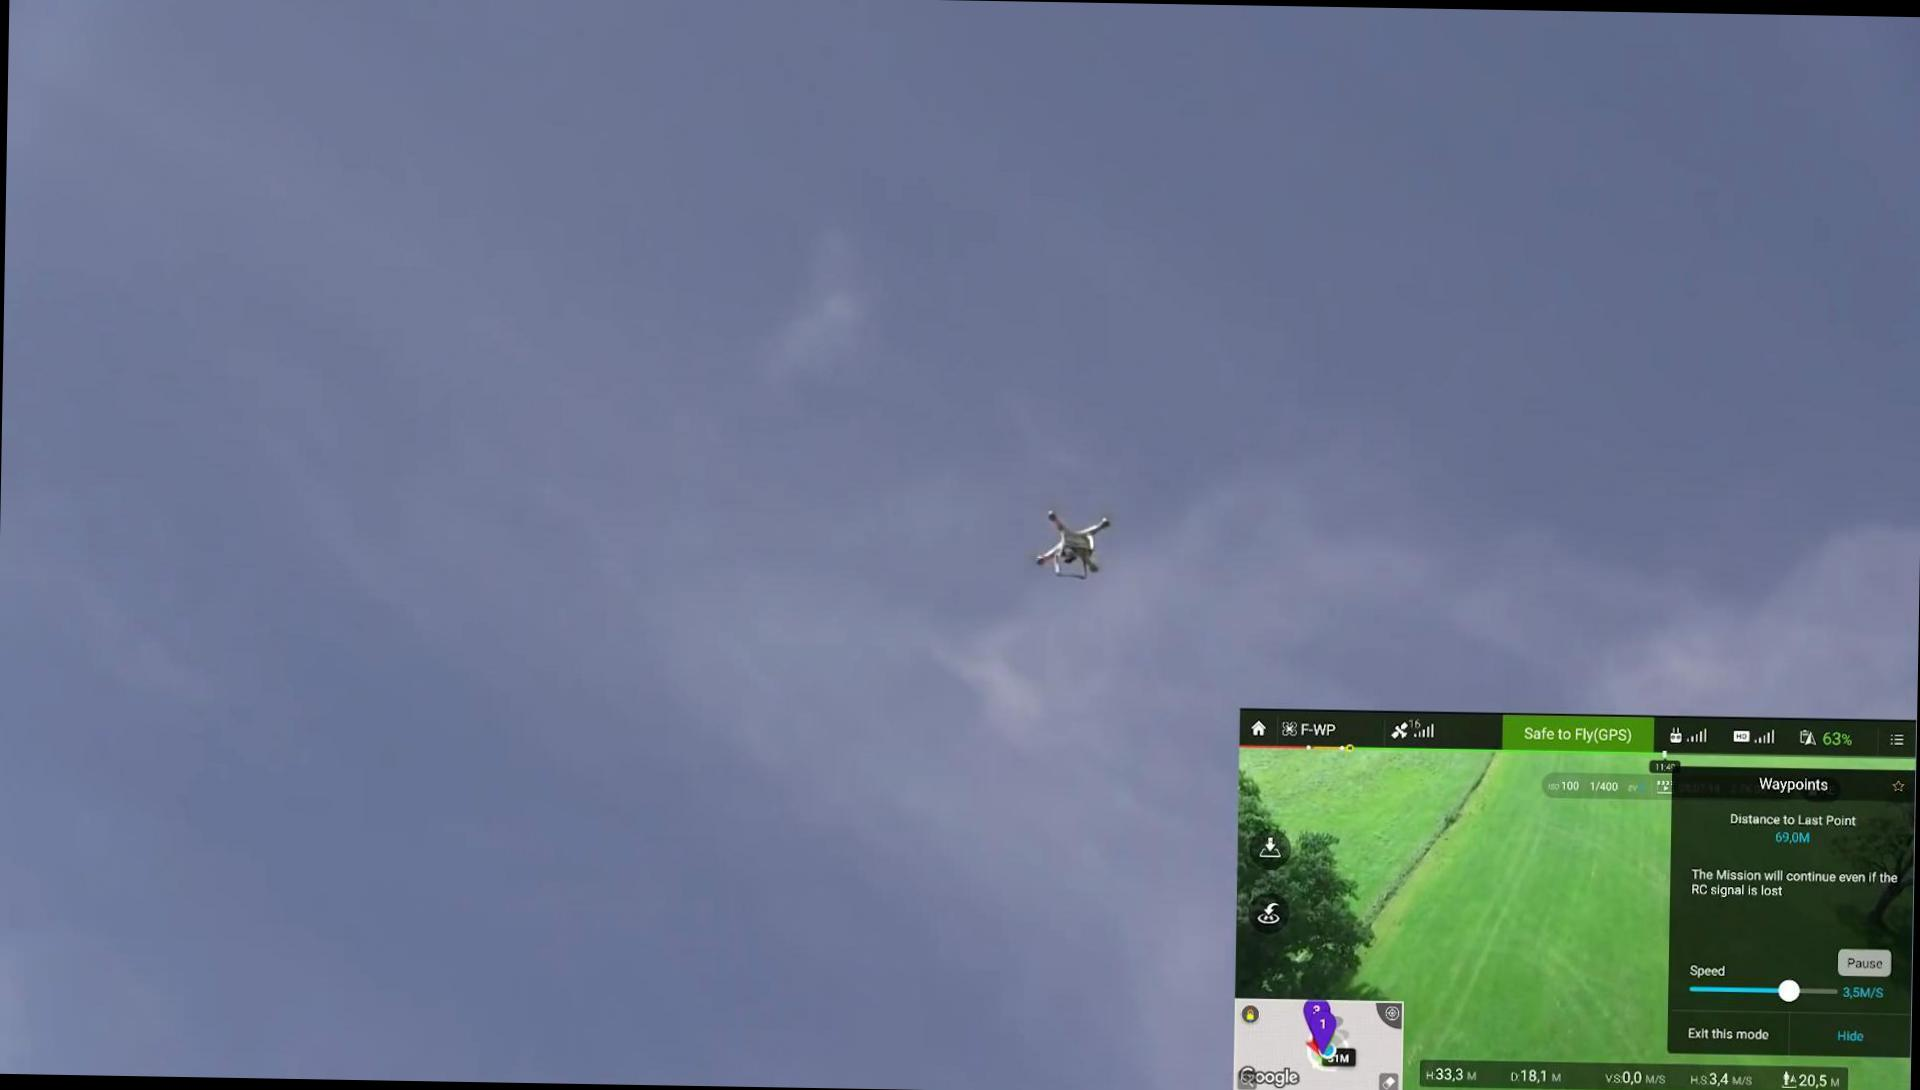drone: (1029, 507, 1113, 580)
